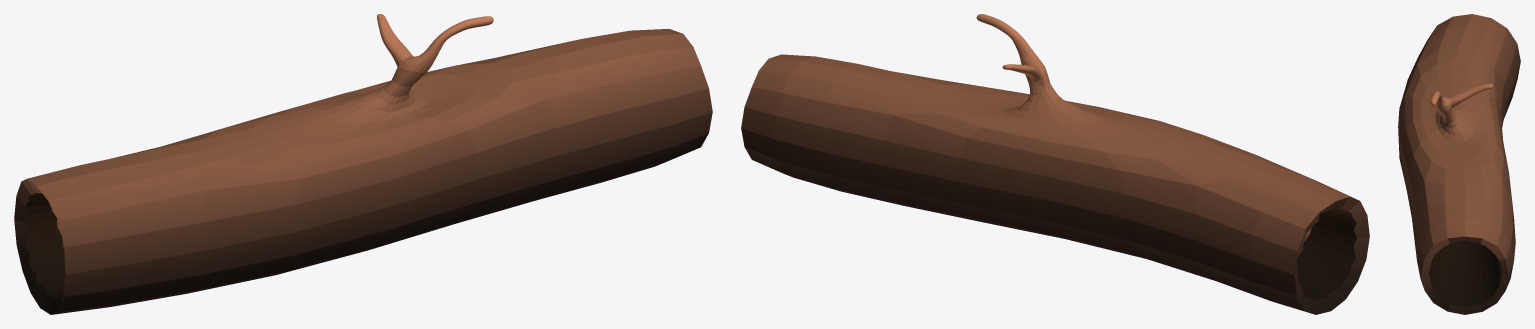
File: hollow_log1.fbx
3 renders of one model, left to right at view 1: azimuth 30°, elevation 25°; view 2: azimuth 150°, elevation 25°; view 3: azimuth 270°, elevation 25°, orthographic. The views are drawn at different scales.
Parts seen in each view (by area): view 1: hollow_log; view 2: hollow_log; view 3: hollow_log.
Boxes of the visible parts, bbox=[...] form: hollow_log: bbox=[14, 14, 712, 314]; hollow_log: bbox=[741, 14, 1369, 314]; hollow_log: bbox=[1398, 14, 1520, 314].
Size of the model in its own units: 781 by 244 by 181.
